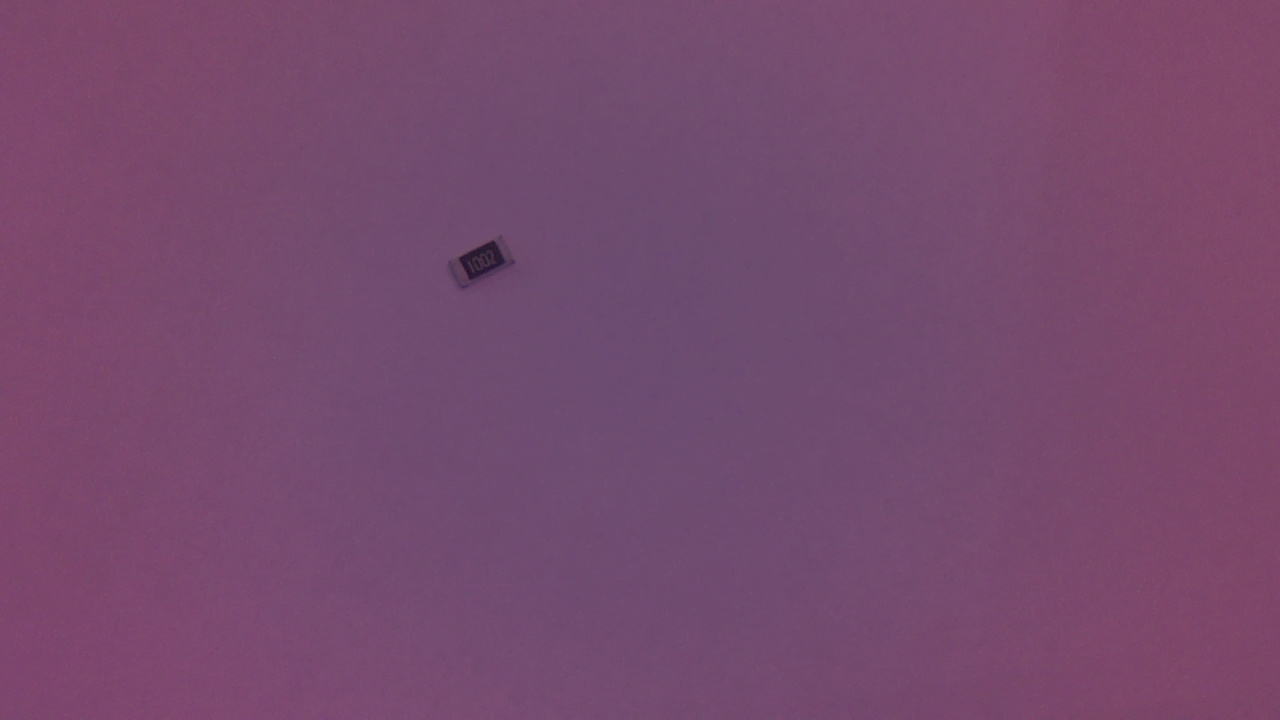Resistor: (445, 234, 526, 306)
